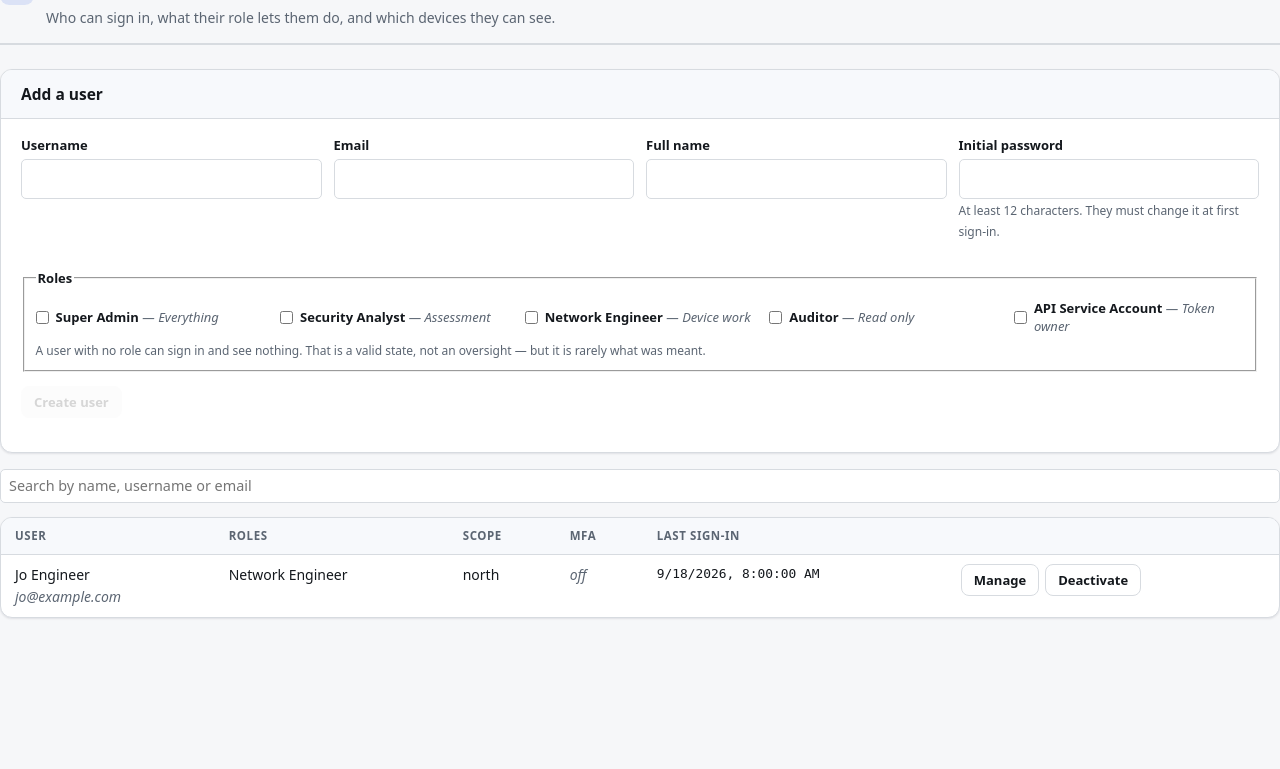
Scenario: UsersPage › the role picker › does not offer to save roles that have not changed
What coordinates should you click on to do the following:
click the button "Manage"
I would click on:
 (1000, 580)
Its box is [961,564,1039,596].
(page scrolled)
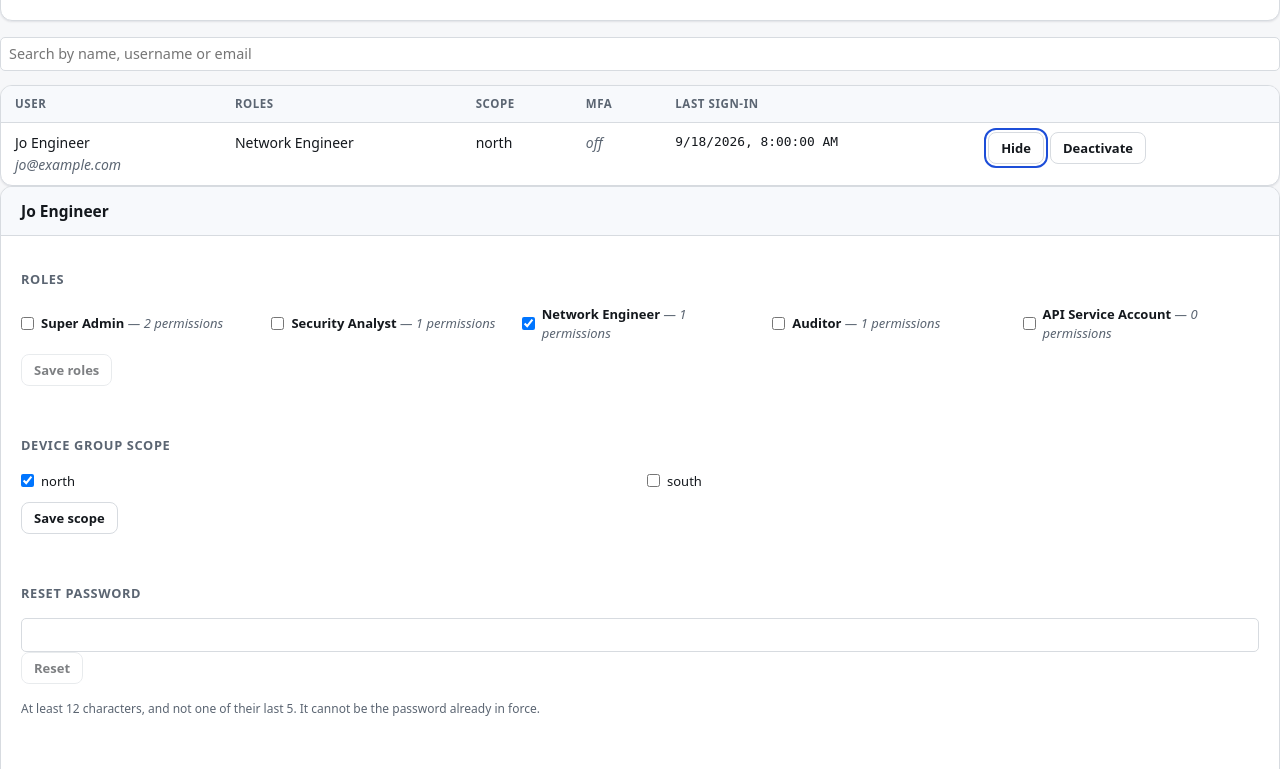
Check: the button "Save roles" is disabled, box [21,354,112,386]
